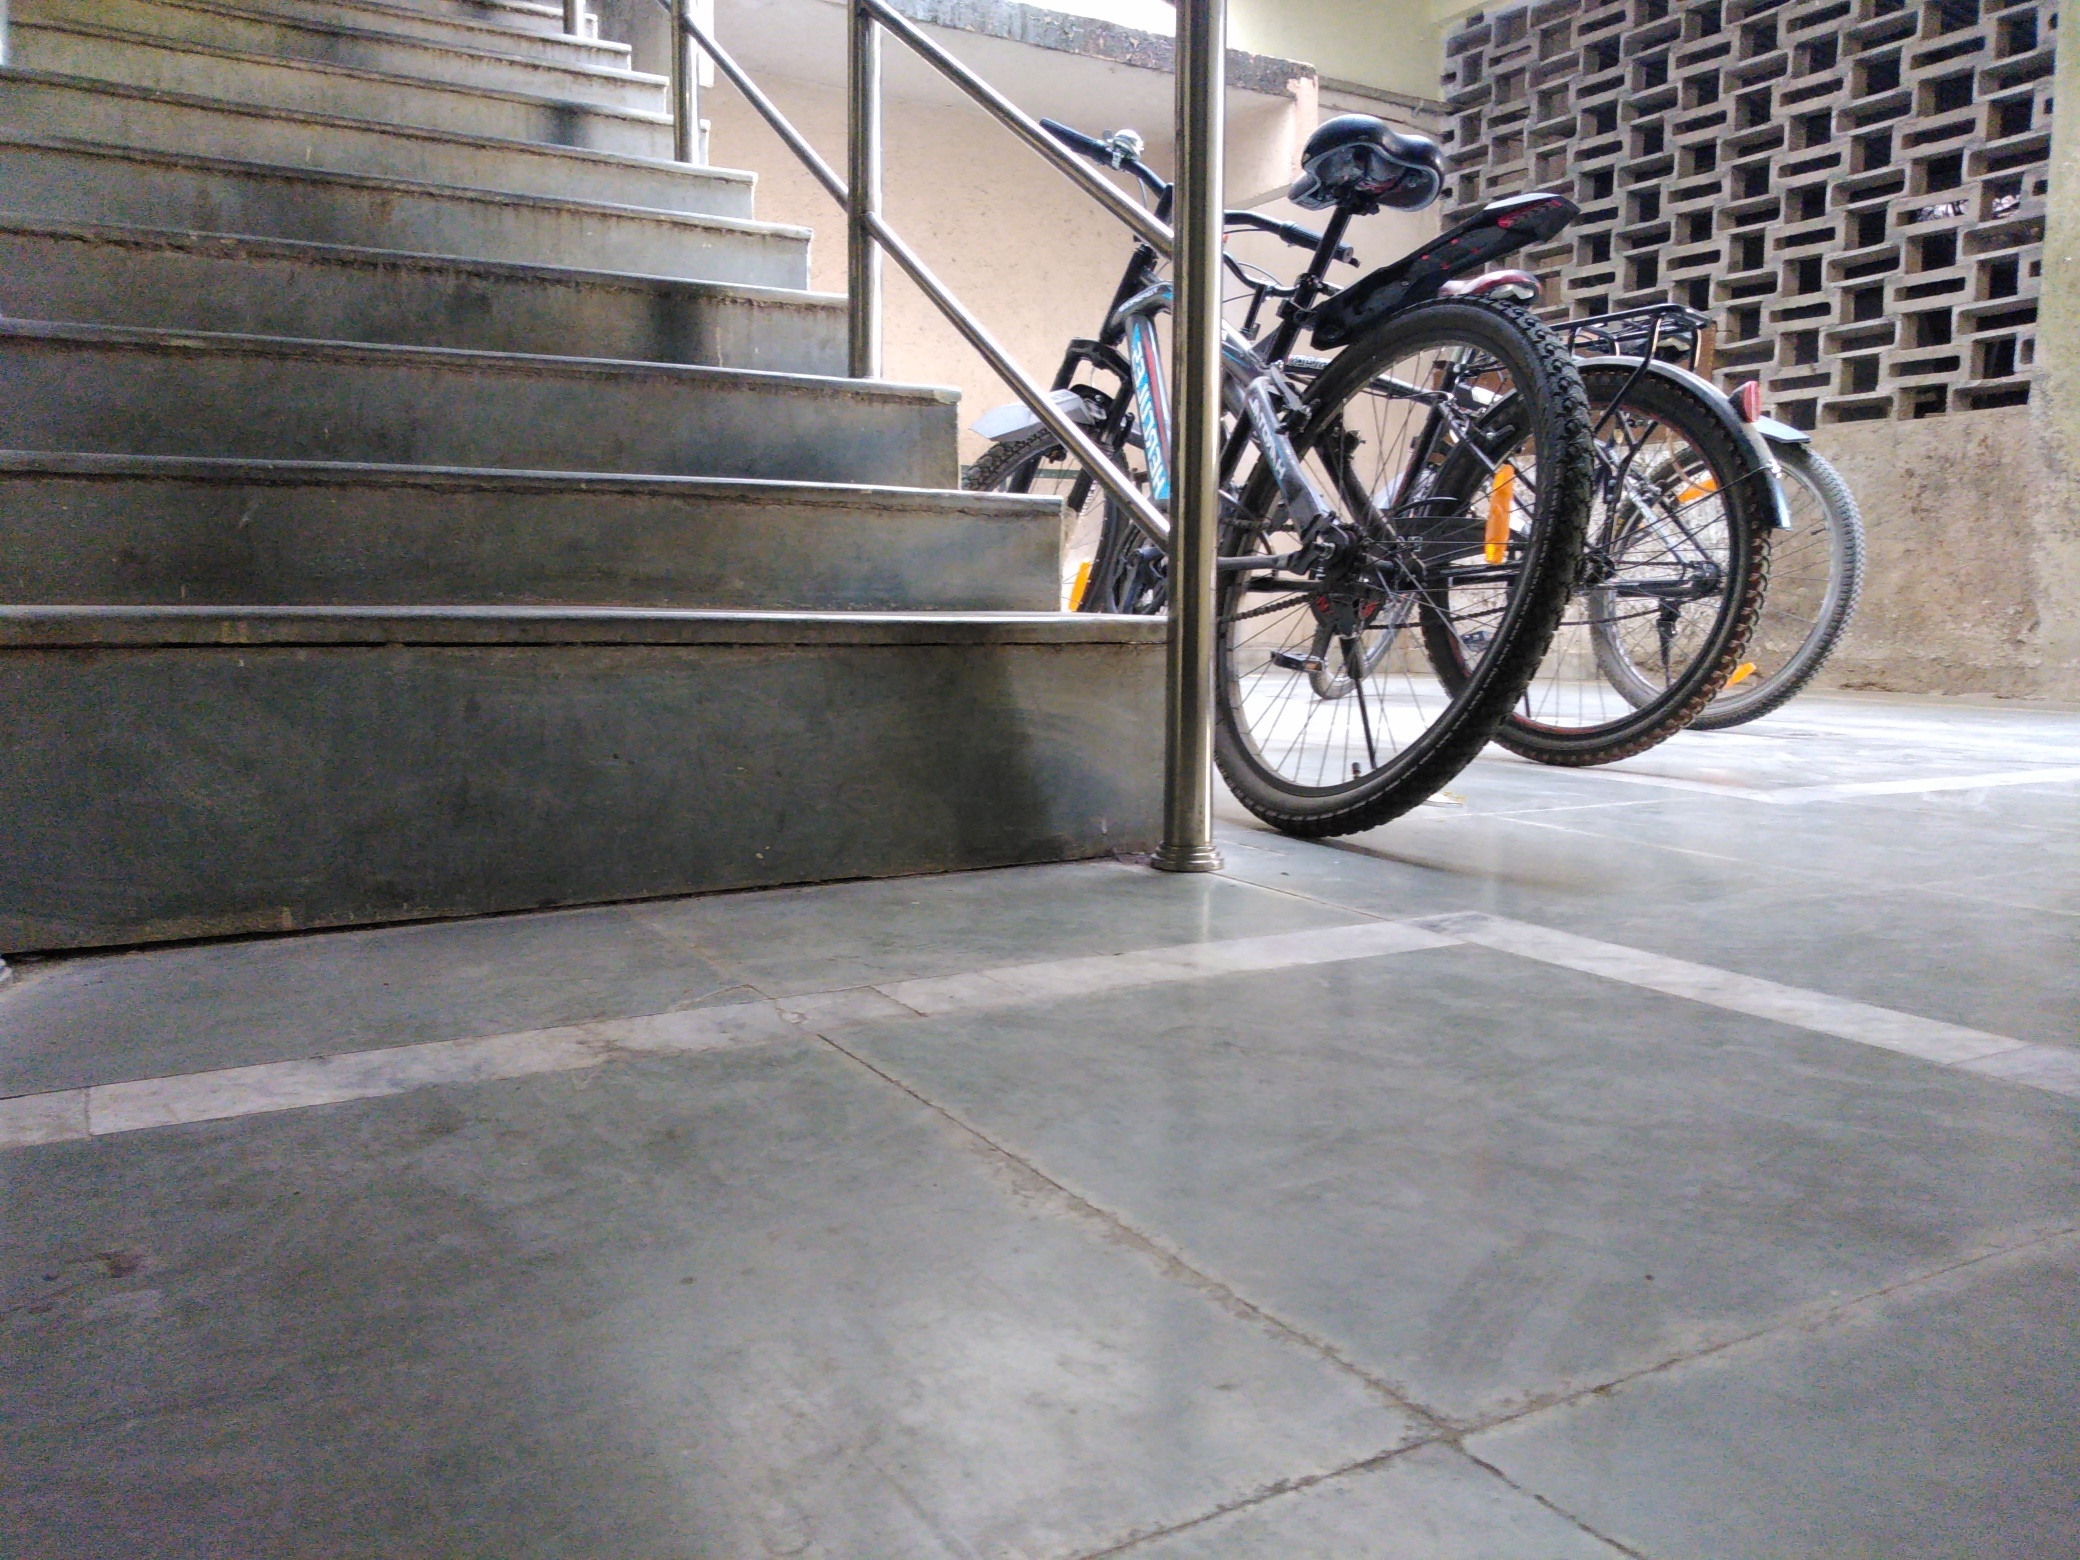stairs_up: (7, 11, 1137, 909)
